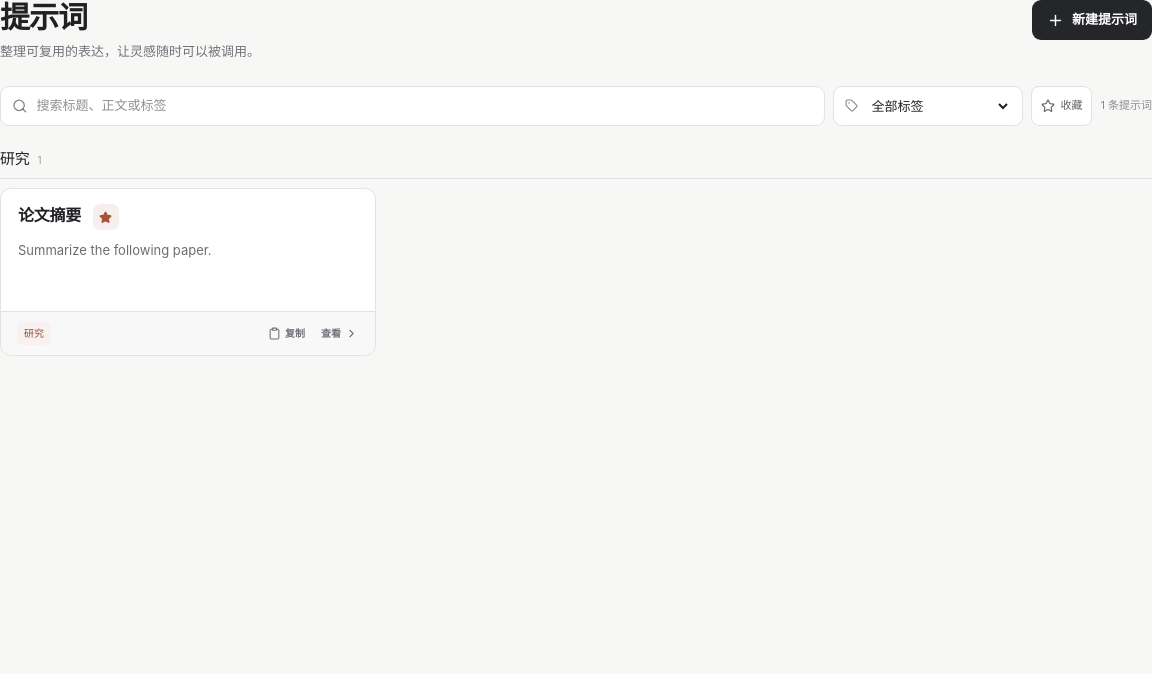
Test case: PromptsPage › copies the prompt body with one click
This screenshot has width=1152, height=674.
Click the button with aria-label "查看 论文摘要": (188, 250) 1,189 -> 375,311
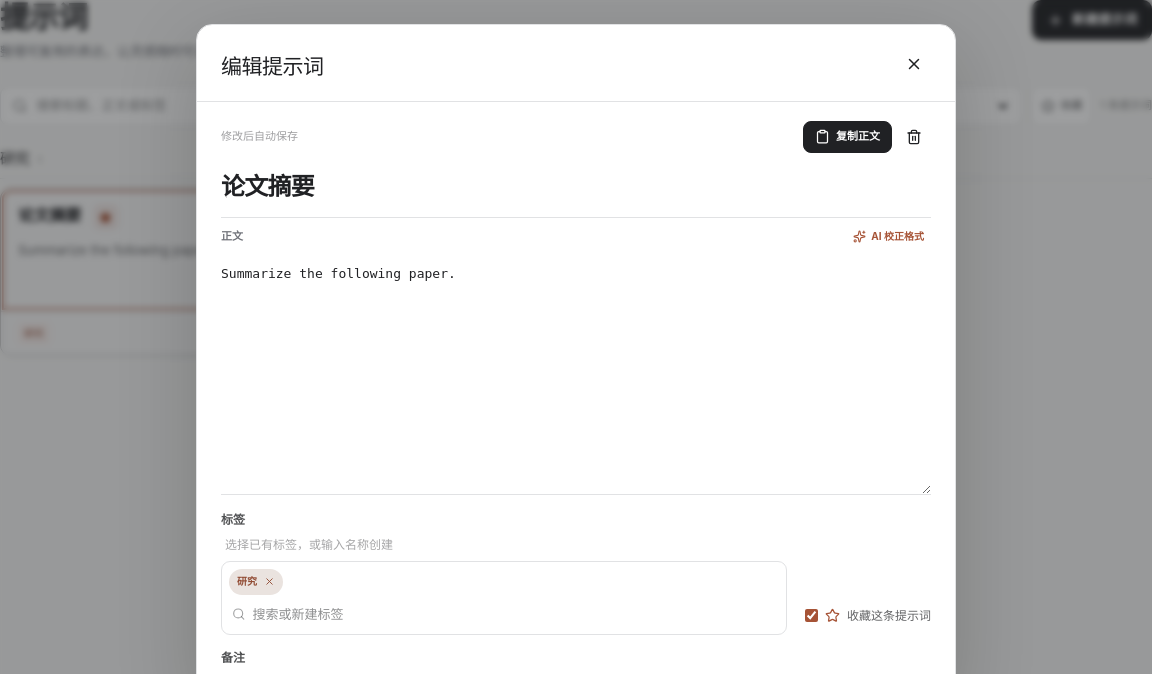
Click the button "复制正文": (848, 136) 803,120 -> 892,152
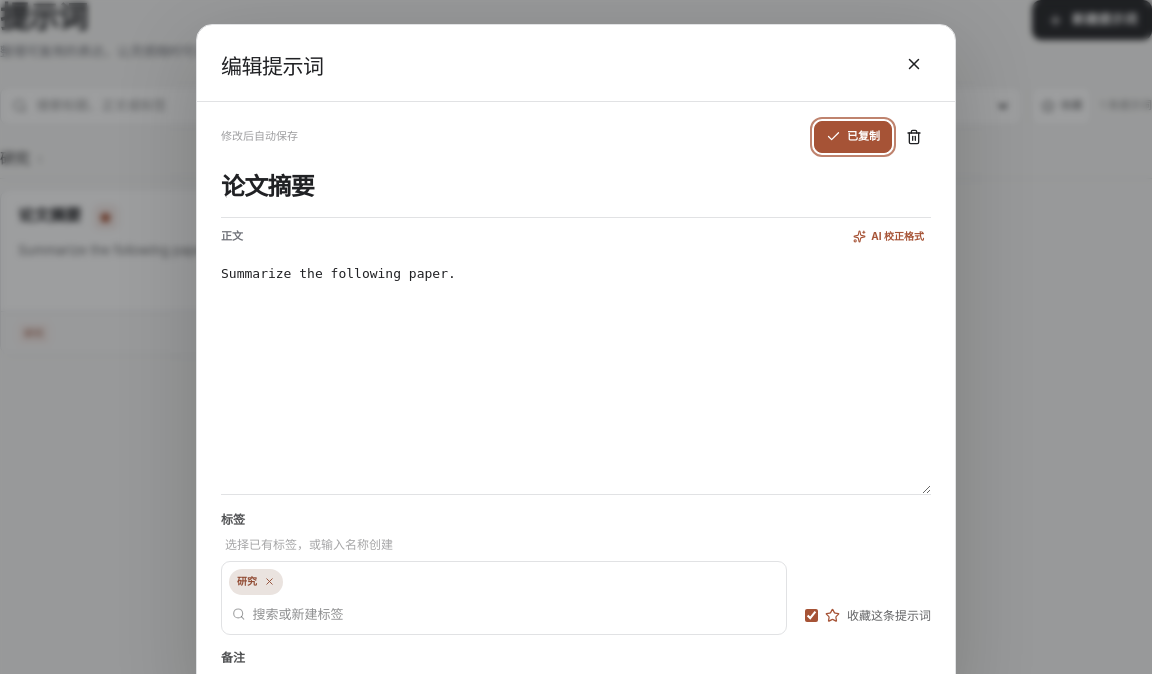
Expected: the button "已复制" is shown, 814,120 -> 892,152
